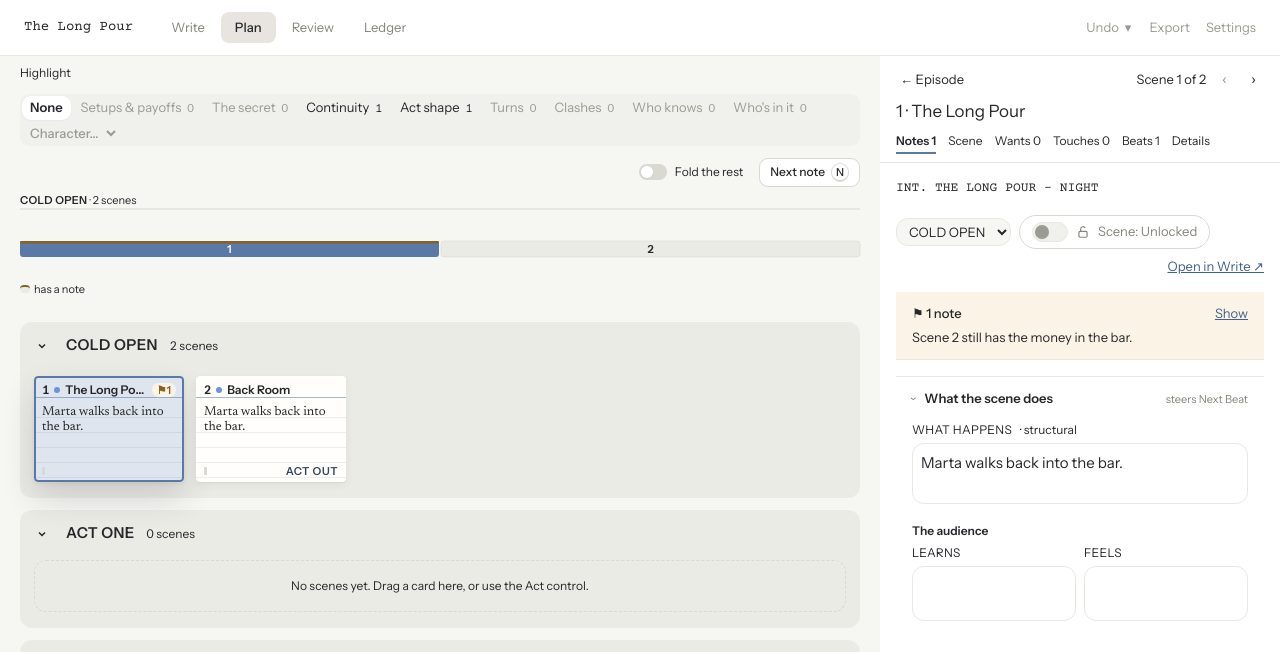
Test: PlanScreen › a failed Draft a fix shows the error in the editor, keeps the edited text, and raises no toast
The width and height of the screenshot is (1280, 652).
Click the button "Show" at (1231, 314), box 1215,304 -> 1248,324
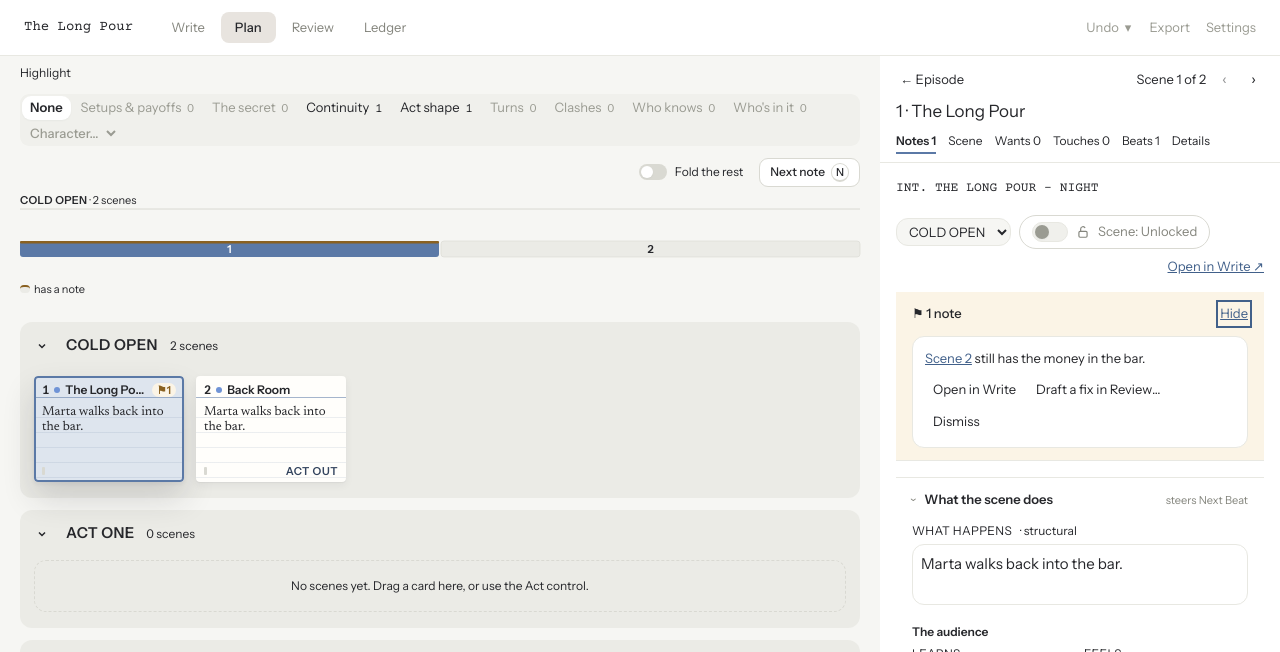
Click the button "Draft a fix in Review…" at (1098, 390), box 1028,376 -> 1169,404
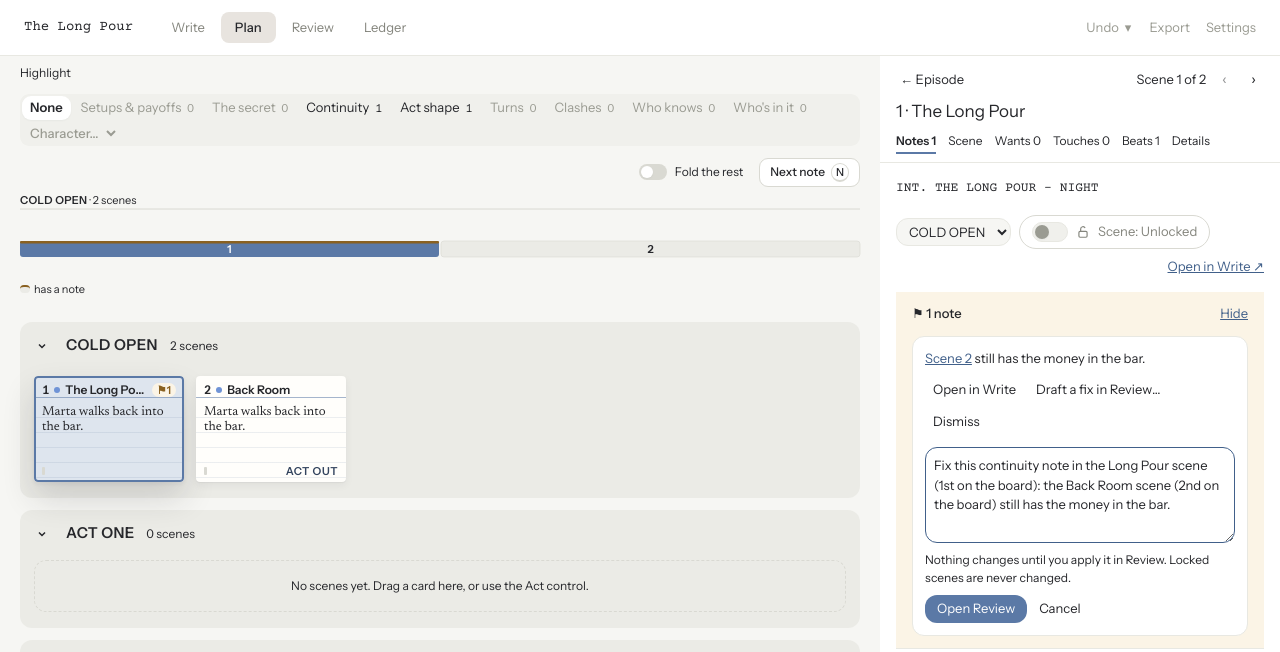
Type " Keep the bar." into the text box named "Fix instruction" at (1080, 495), box 925,447 -> 1235,543
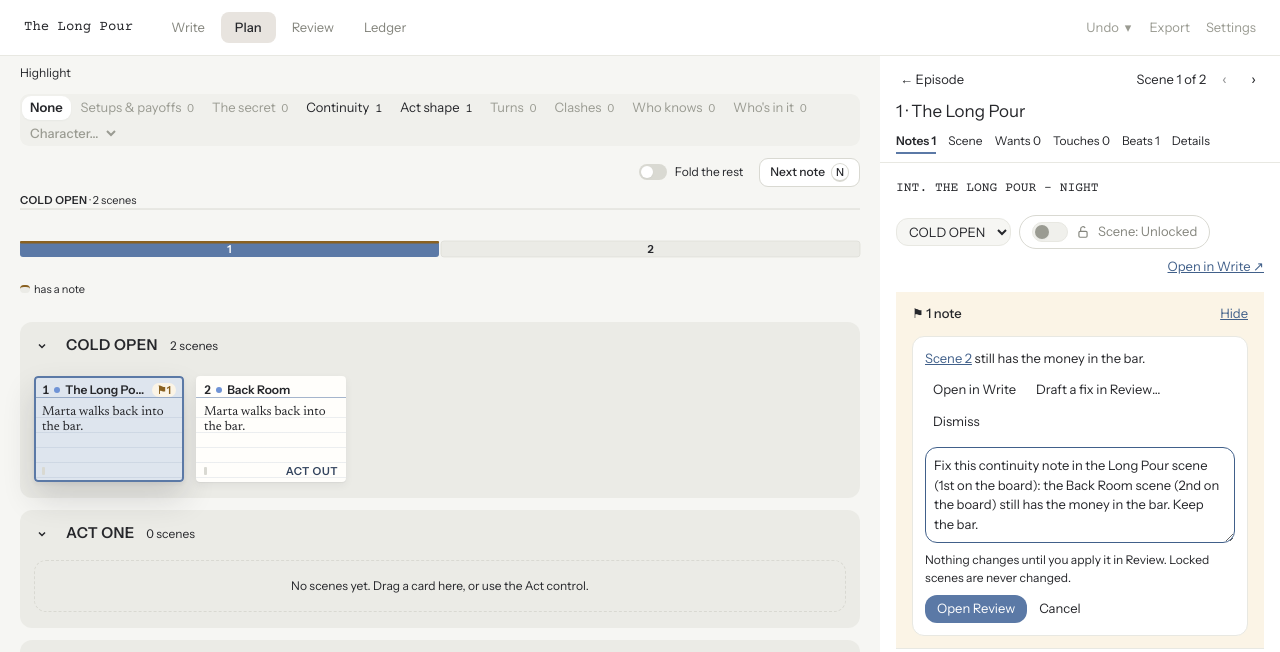
Click the button "Open Review" at (976, 609), box 925,595 -> 1027,622
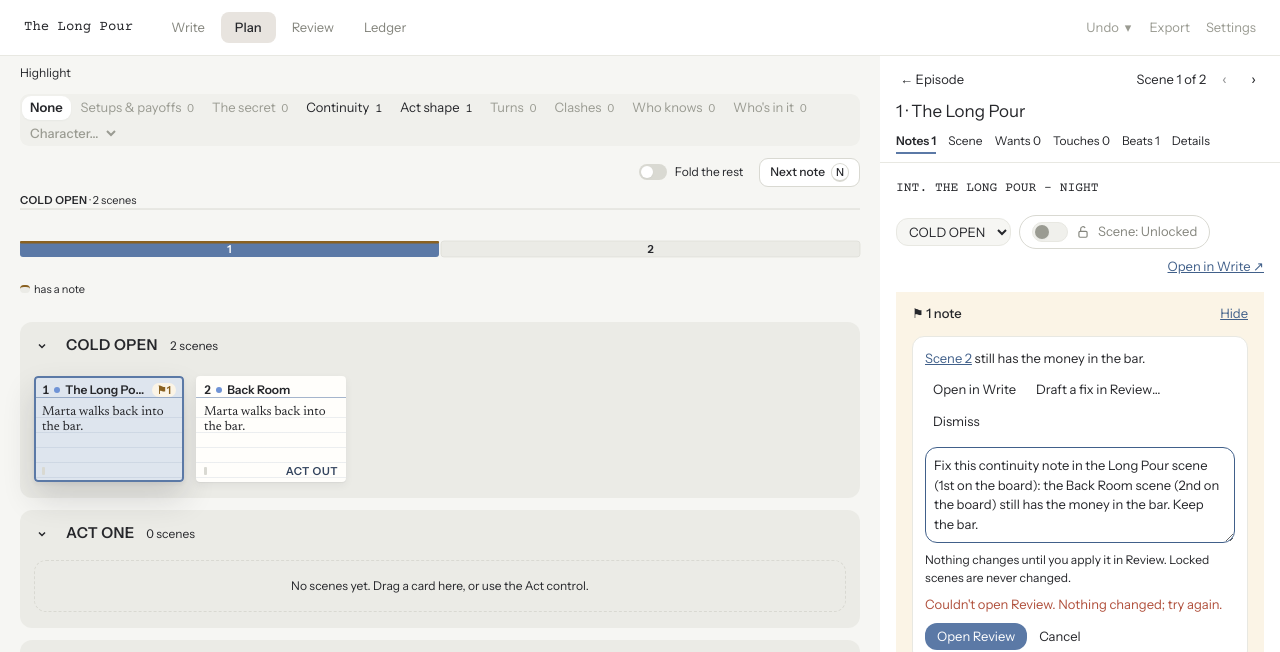
Check: the message reads "Couldn't open Review. Nothing changed; try again.", box 925,596 -> 1222,612
